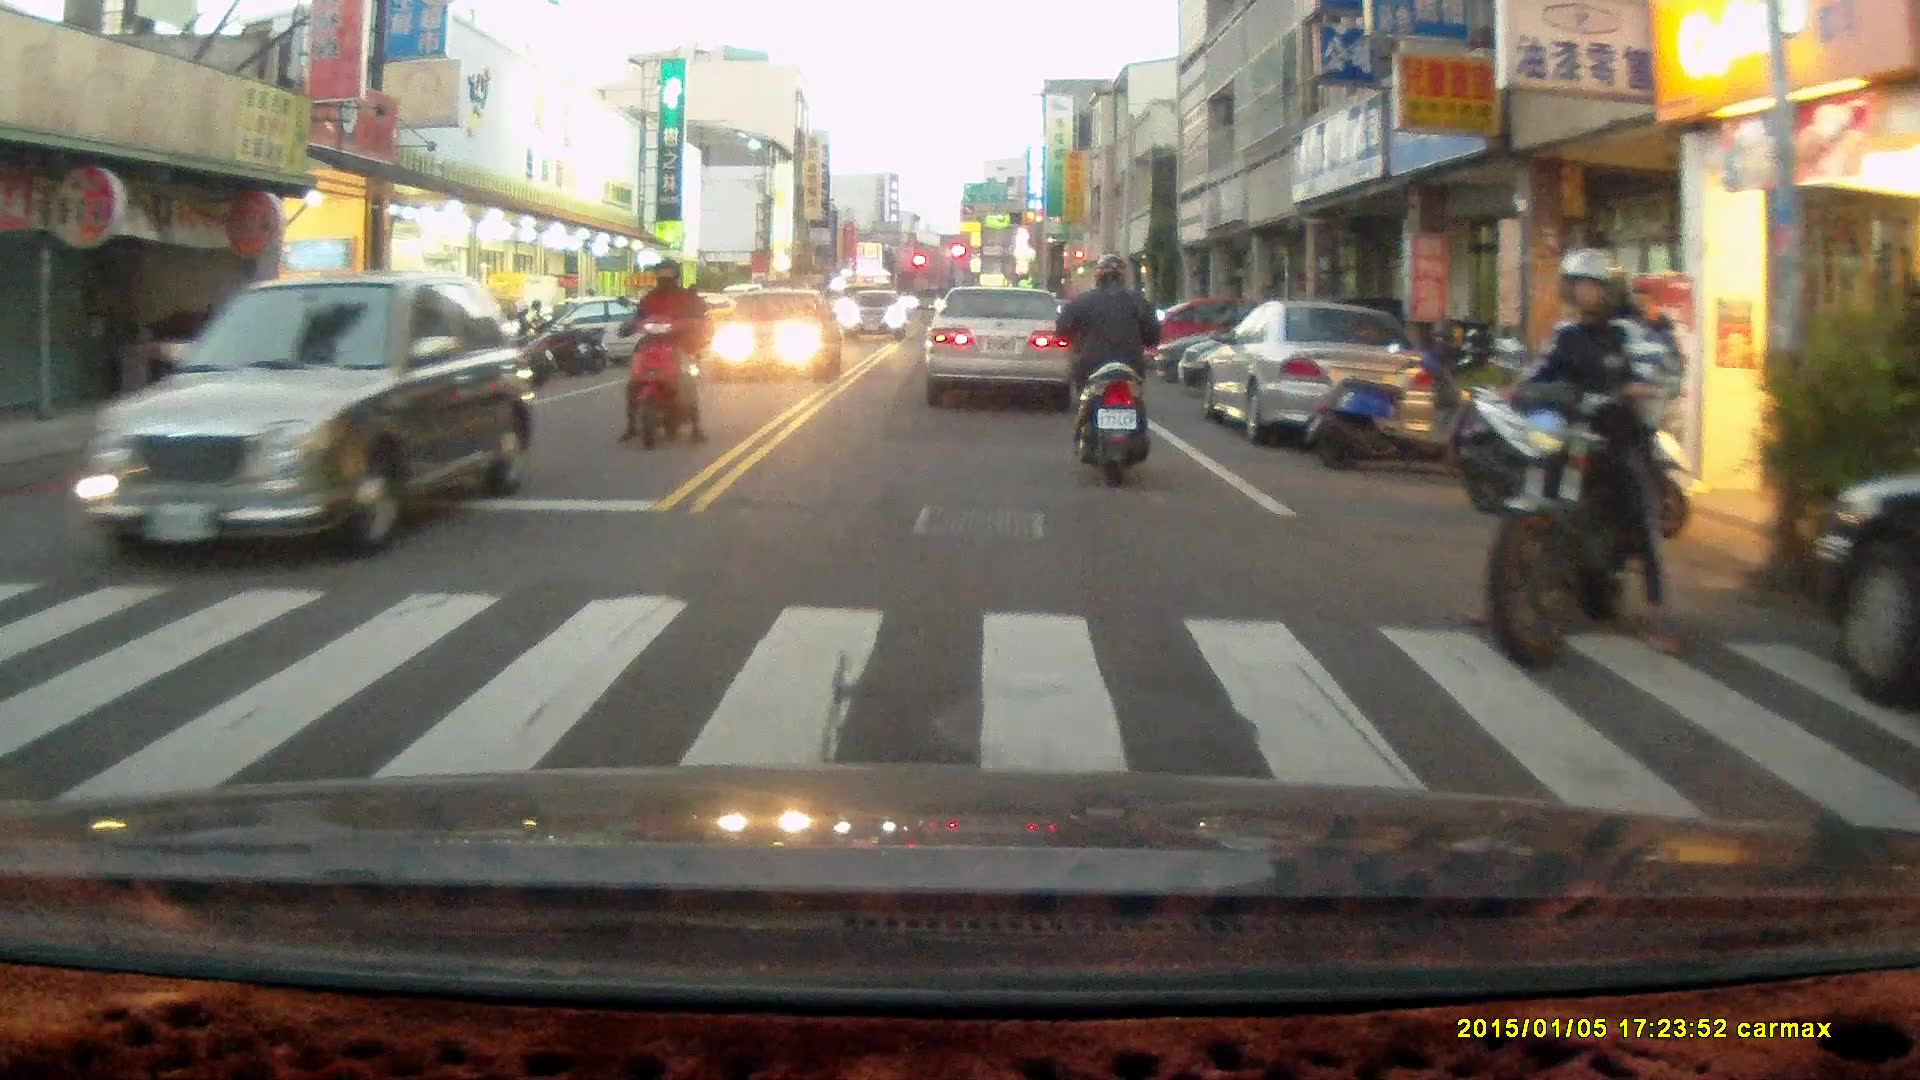rider: (1478, 246, 1690, 666), (1055, 251, 1168, 485), (613, 256, 708, 452)
vehicle: (76, 270, 536, 569), (1208, 304, 1442, 453), (1806, 460, 1920, 709), (927, 286, 1081, 387), (706, 285, 839, 380), (838, 290, 914, 347)
